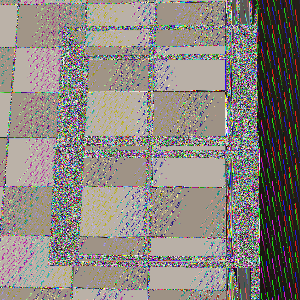Rack: (42, 29, 257, 275)
